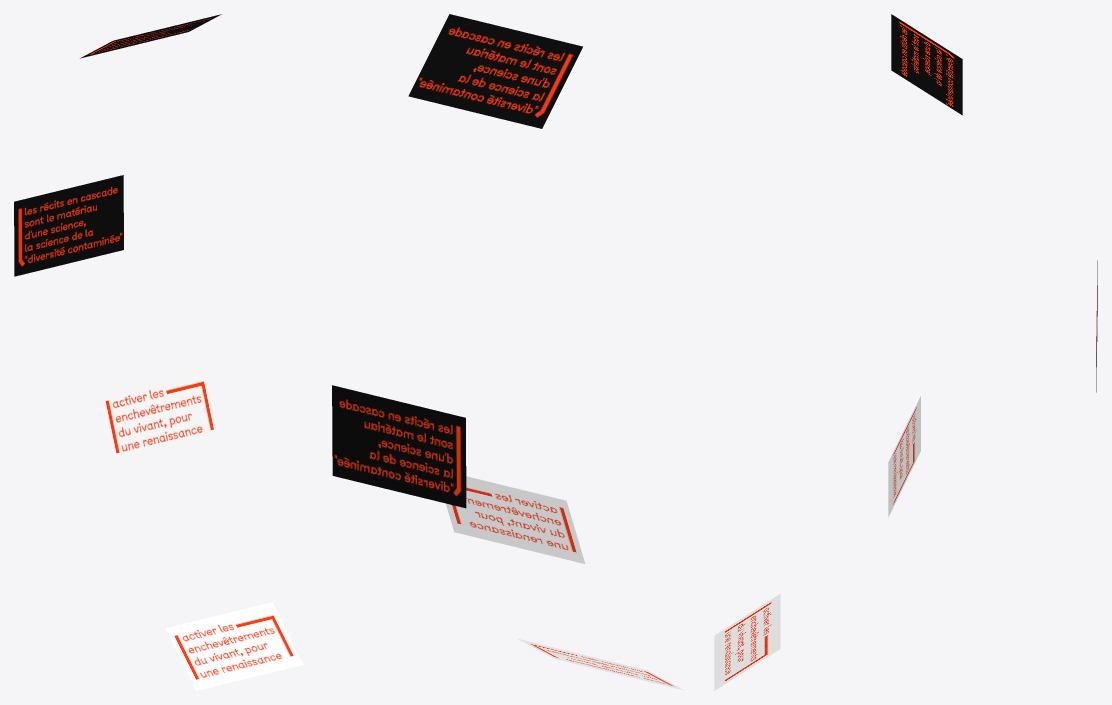
File: Png_Part.gltf
3 renders of one model, left to right at view 1: azimuth 30°, elevation 25°; view 2: azimuth 150°, elevation 25°; view 3: azimuth 270°, elevation 25°, orthographic. The views are drawn at different scales.
Visible parts, largest first — view 1: 1.1, 3, 1.003, 3.001; view 2: 3.001, 3, 1.1, 1.003; view 3: 3.001, 1.003, 1.1.
Part boxes in pixels (x1,y1,x2,y2): 1.1: (99, 366, 221, 466); 3: (14, 175, 123, 276); 1.003: (165, 602, 303, 690); 3.001: (80, 14, 221, 58); 3.001: (408, 14, 582, 128); 3: (332, 385, 466, 508); 1.1: (445, 476, 585, 563); 1.003: (517, 638, 684, 690); 3.001: (891, 14, 962, 115); 1.003: (714, 594, 780, 690); 1.1: (888, 396, 920, 516).
Bounding box in the file's own units: 16.38 × 83.06 × 46.38.
2 materials, 2 textured.
